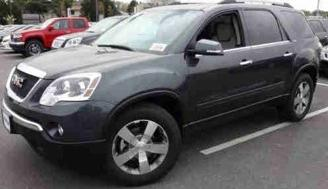front_view: (0, 63, 104, 149)
headlight: (51, 70, 106, 111)
side_glass: (192, 8, 287, 49)
